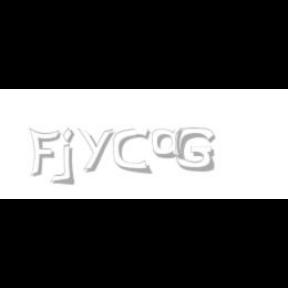C: (114, 128, 150, 174)
F: (28, 128, 60, 178)
G: (175, 128, 215, 172)
a: (152, 128, 190, 160)
j: (60, 128, 88, 186)
y: (77, 128, 117, 172)
